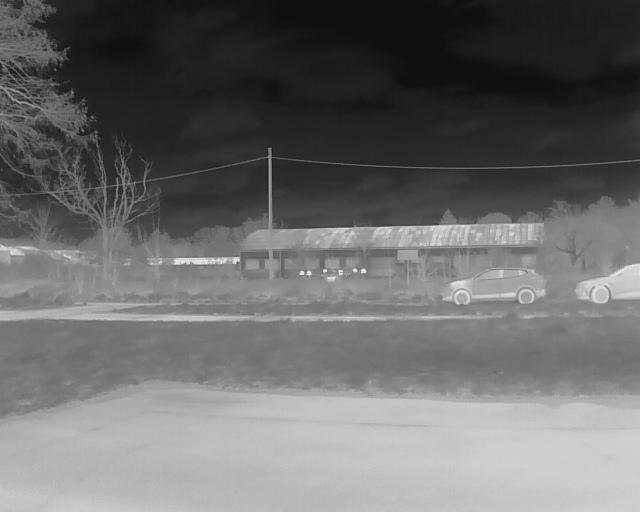drone: (294, 253, 366, 308)
